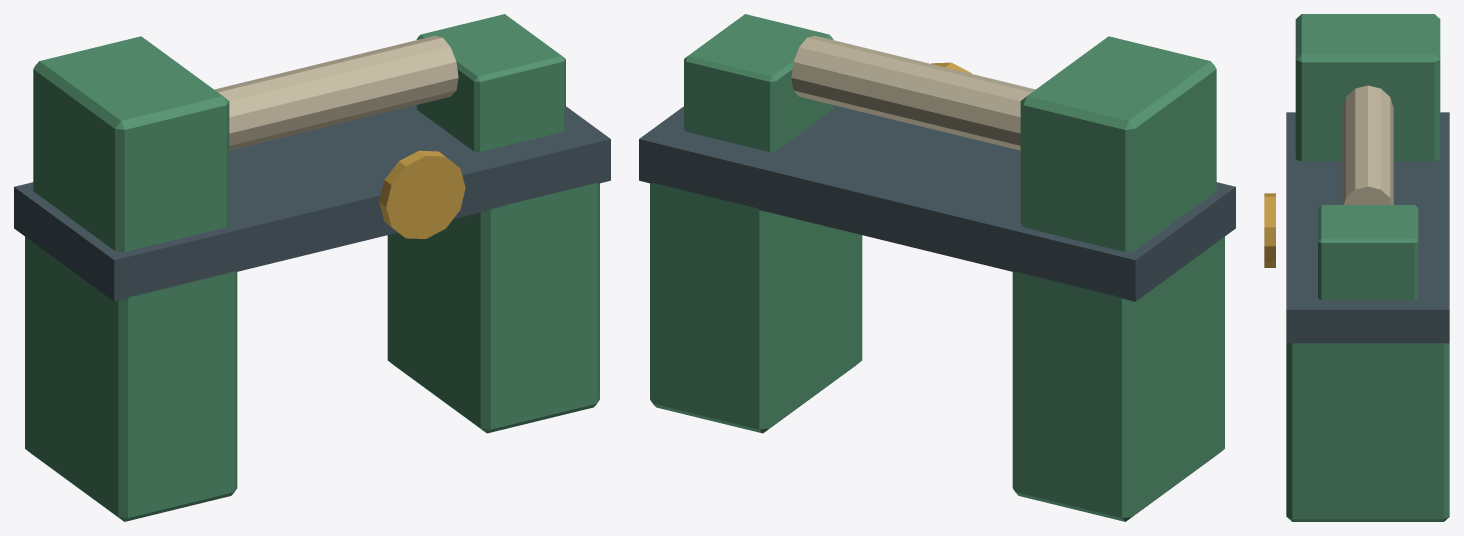
File: workshop_lathe.glb
The picture shows the model from 3 angles, left to right: view 1: azimuth 30°, elevation 25°; view 2: azimuth 150°, elevation 25°; view 3: azimuth 270°, elevation 25°; orthographic projection. The views are drawn at different scales.
Parts seen in each view (by area): view 1: workshop_lathe; view 2: workshop_lathe; view 3: workshop_lathe.
Boxes of the visible parts, x1,y1,x2,y2 form: workshop_lathe: (14, 14, 610, 521); workshop_lathe: (639, 14, 1235, 521); workshop_lathe: (1264, 14, 1449, 521).
Size of the model in its own units: 2 by 1.53 by 0.795.
